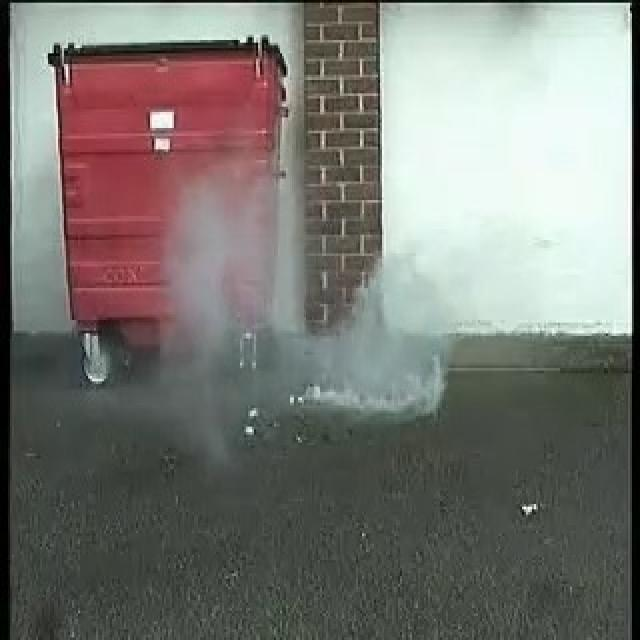smoke: (298, 257, 452, 403)
